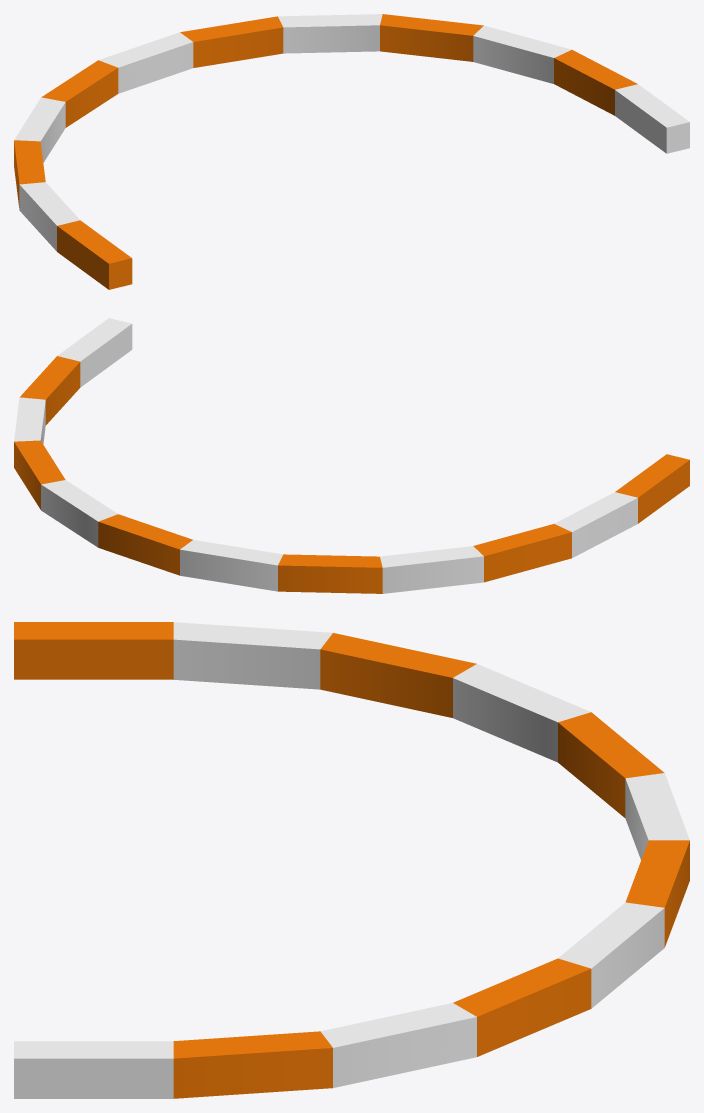
Rendered from HalfRoundBarrierA.fbx.
3 views of the same model, one above another, from view 1: azimuth 30°, elevation 25°; view 2: azimuth 150°, elevation 25°; view 3: azimuth 270°, elevation 25° (orthographic). The views are drawn at different scales.
Visible parts, largest first — view 1: HalfRoundBarrierA; view 2: HalfRoundBarrierA; view 3: HalfRoundBarrierA.
Boxes of the visible parts, bbox=[...] form: HalfRoundBarrierA: bbox=[14, 14, 689, 289]; HalfRoundBarrierA: bbox=[14, 318, 689, 593]; HalfRoundBarrierA: bbox=[14, 622, 689, 1098].
Size of the model in its own units: 1023 by 43.95 by 670.
Materials: 1 (1 with a texture image).
